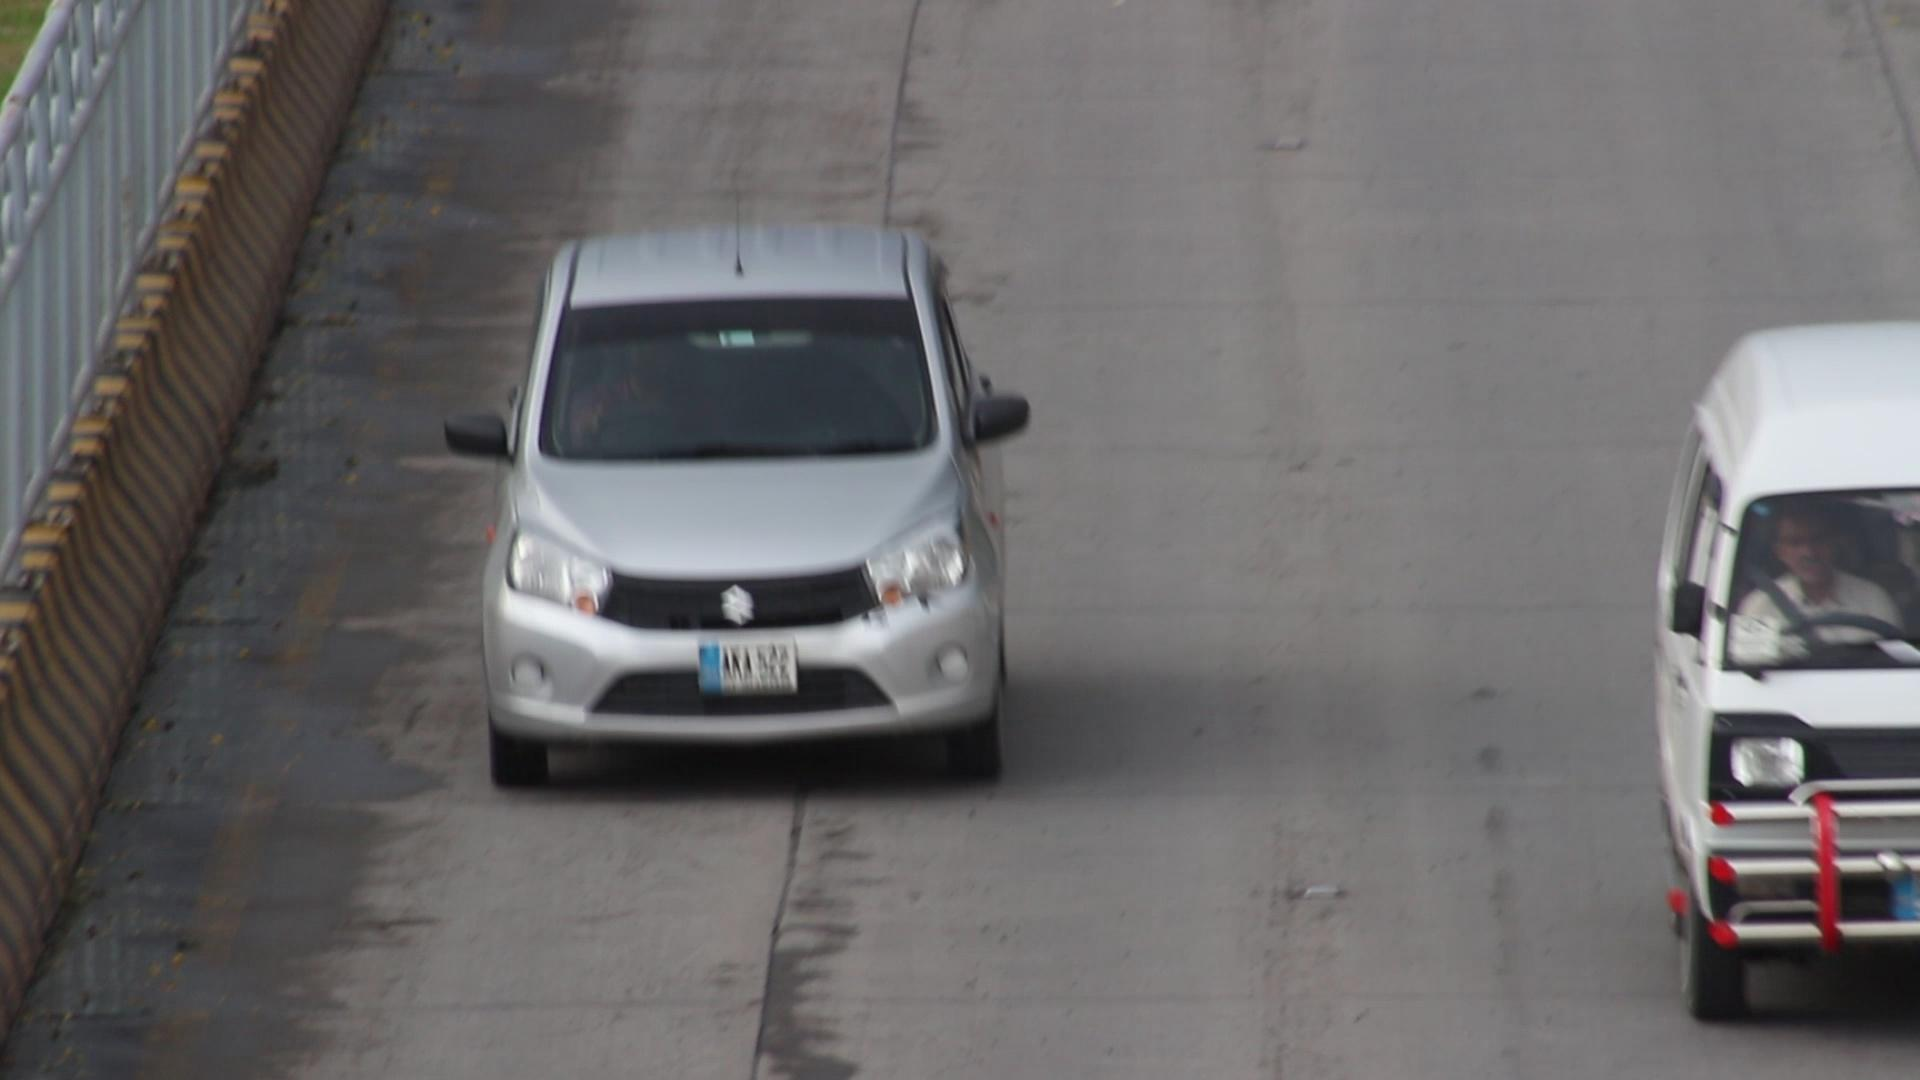windshield: (521, 284, 938, 476)
